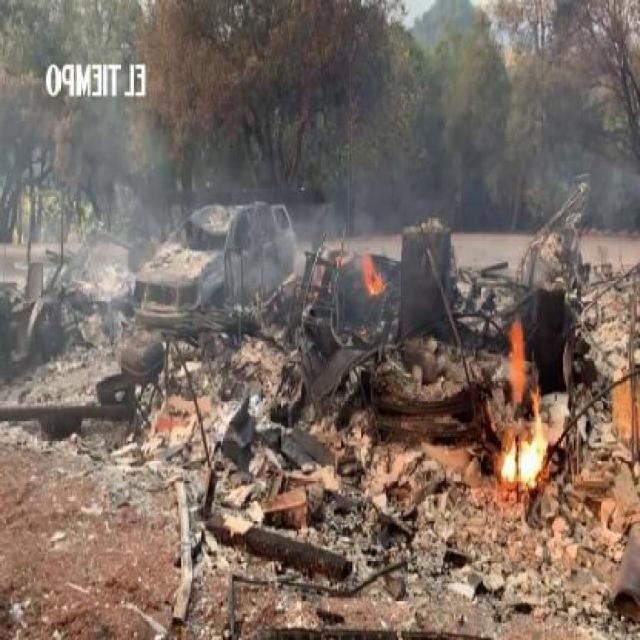Fire: (502, 405, 552, 483), (504, 323, 526, 399), (363, 252, 385, 296)
